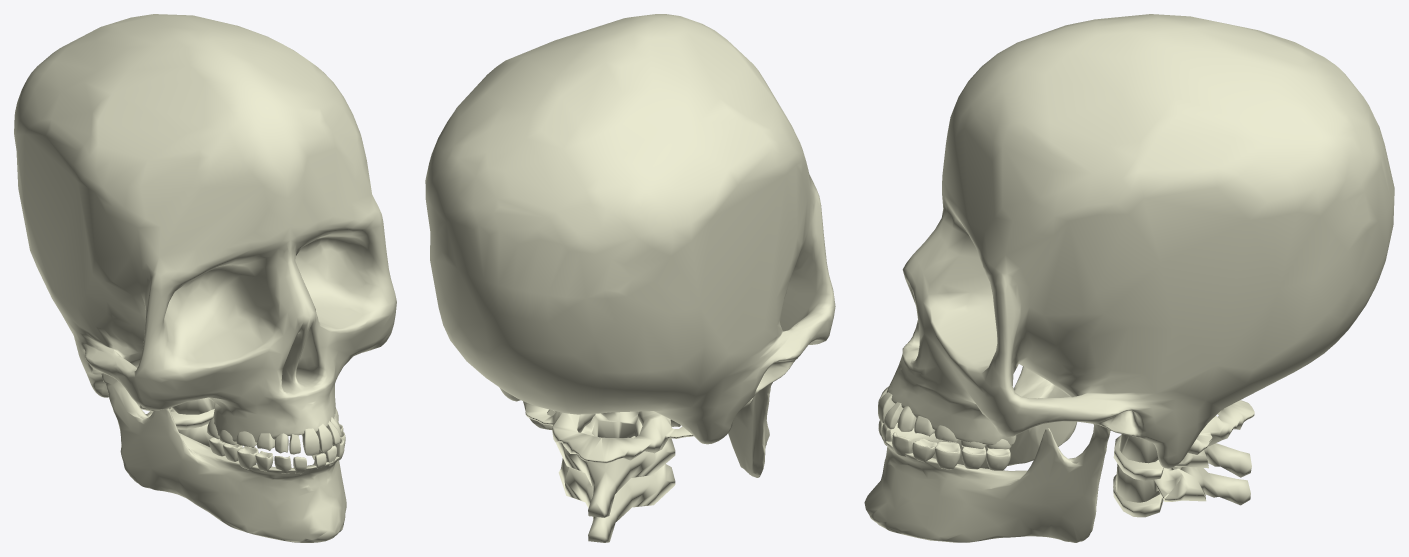
The model's file is Low_Skeleton.fbx.
3 renders of one model, left to right at view 1: azimuth 30°, elevation 25°; view 2: azimuth 150°, elevation 25°; view 3: azimuth 270°, elevation 25°, orthographic. The views are drawn at different scales.
Visible parts, largest first — view 1: Skeleton:Skull__1; view 2: Skeleton:Skull__1; view 3: Skeleton:Skull__1.
Boxes of the visible parts, box(x1,y1,x2,y2) form: Skeleton:Skull__1: box(14, 14, 396, 542); Skeleton:Skull__1: box(425, 14, 835, 542); Skeleton:Skull__1: box(864, 14, 1394, 542).
Bounding box in the file's own units: 2.38 × 3.48 × 3.43.
